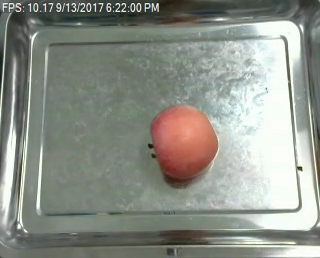Apple: (147, 102, 220, 184)
